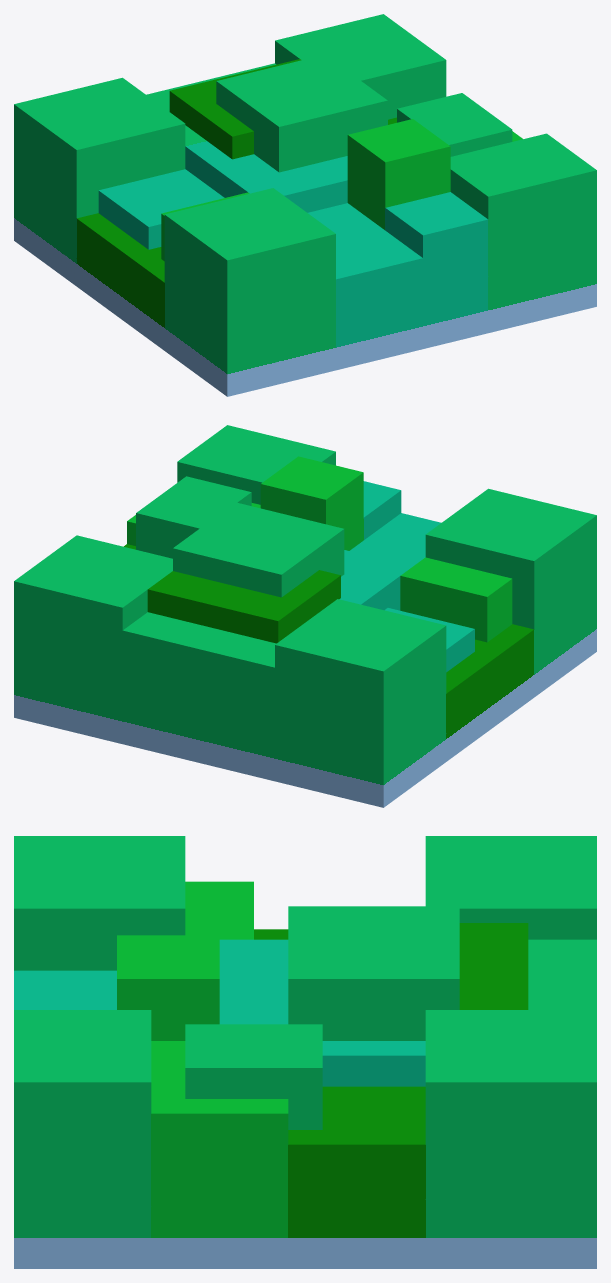
File: GRock4.dae
3 views of the same model, one above another, from view 1: azimuth 30°, elevation 25°; view 2: azimuth 150°, elevation 25°; view 3: azimuth 270°, elevation 25° (orthographic). The views are drawn at different scales.
Visible parts, largest first — view 1: grock4.grock4; view 2: grock4.grock4; view 3: grock4.grock4.
Part boxes in pixels (x1,y1,x2,y2): grock4.grock4: (14, 14, 596, 396); grock4.grock4: (14, 425, 596, 807); grock4.grock4: (14, 836, 596, 1268).
Size of the model in its own units: 1.7 by 0.7 by 1.7.
1 material, 1 textured.
